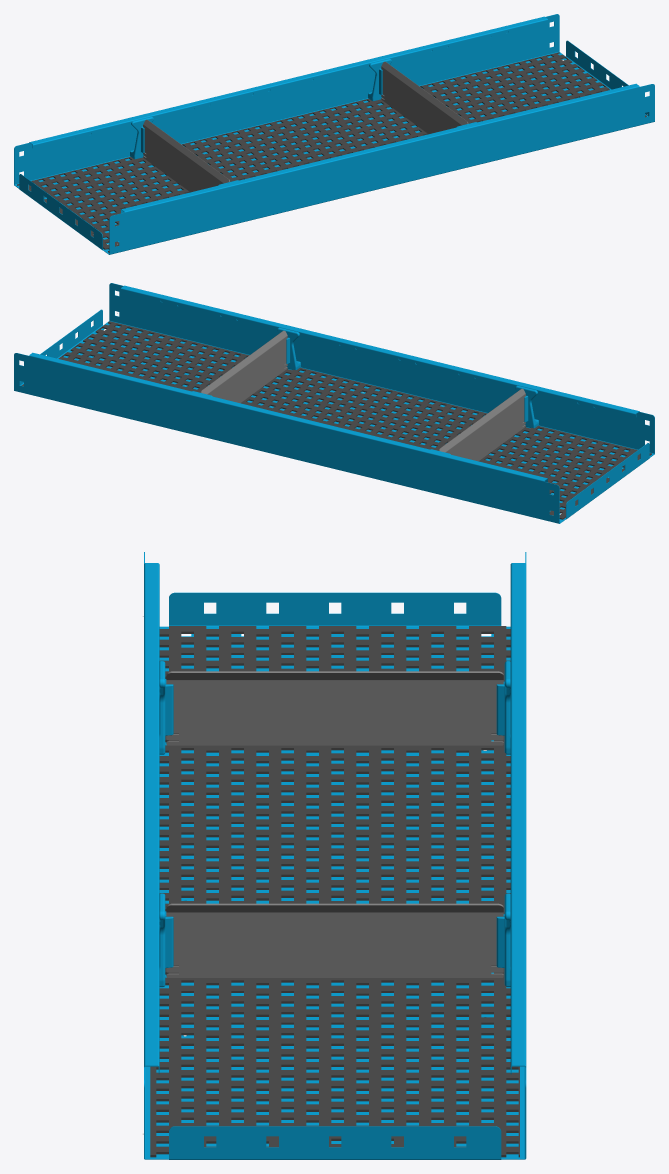
File: XDS40231KM02.glb
3 views of the same model, one above another, from view 1: azimuth 30°, elevation 25°; view 2: azimuth 150°, elevation 25°; view 3: azimuth 270°, elevation 25° (orthographic). The views are drawn at different scales.
Visible parts, largest first — view 1: XDS40231-1, TA20-31-1, ZDS00231-2, ZDS00231-1, ZDH00200-4, ZDH00200-1; view 2: XDS40231-1, TA20-31-1, ZDS00231-2, ZDS00231-1, ZDH00200-2, ZDH00200-3; view 3: TA20-31-1, XDS40231-1, ZDS00231-1, ZDS00231-2, ZDH00200-3, ZDH00200-4, ZDH00200-2, ZDH00200-1.
Boxes of the visible parts, left/top/right/bottom form: XDS40231-1: left=14, top=14, right=654, bottom=254; TA20-31-1: left=17, top=52, right=646, bottom=252; ZDS00231-2: left=381, top=61, right=468, bottom=134; ZDS00231-1: left=143, top=119, right=229, bottom=192; ZDH00200-4: left=368, top=58, right=391, bottom=101; ZDH00200-1: left=130, top=116, right=153, bottom=159; XDS40231-1: left=14, top=283, right=654, bottom=523; TA20-31-1: left=21, top=321, right=651, bottom=519; ZDS00231-2: left=200, top=330, right=287, bottom=403; ZDS00231-1: left=439, top=388, right=525, bottom=461; ZDH00200-2: left=515, top=385, right=538, bottom=428; ZDH00200-3: left=277, top=327, right=300, bottom=370; TA20-31-1: left=150, top=626, right=519, bottom=1157; XDS40231-1: left=144, top=552, right=526, bottom=1159; ZDS00231-1: left=166, top=671, right=503, bottom=745; ZDS00231-2: left=166, top=903, right=503, bottom=977; ZDH00200-3: left=159, top=893, right=173, bottom=987; ZDH00200-4: left=496, top=893, right=510, bottom=987; ZDH00200-2: left=159, top=661, right=173, bottom=754; ZDH00200-1: left=496, top=661, right=510, bottom=754.
Size of the model in its own units: 1.01 by 0.0702 by 0.307.
